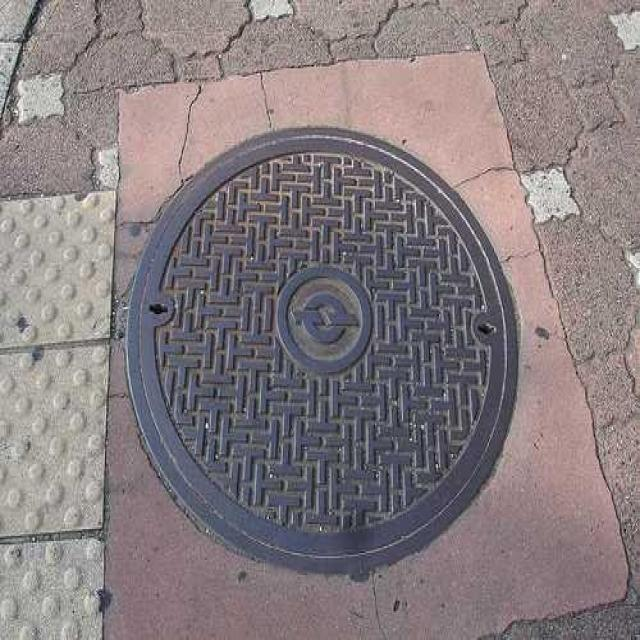manhole: (126, 128, 518, 572)
